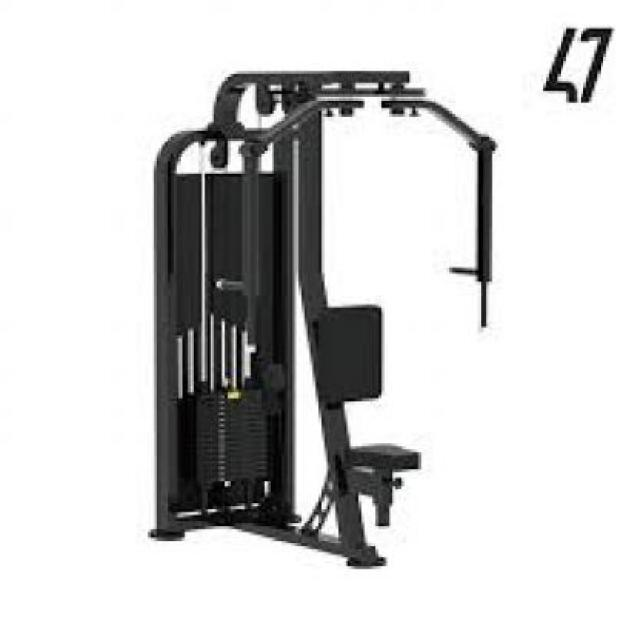chest fly machine: (138, 49, 511, 640)
